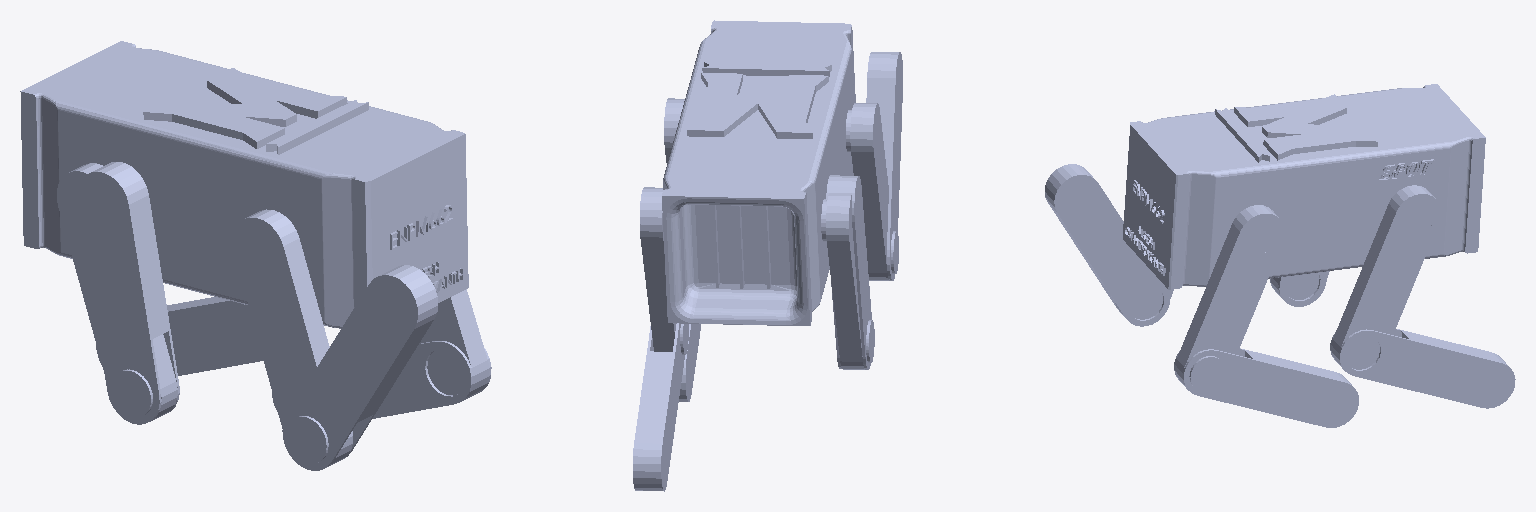
--- What the picture shows (computed from the rendered views, not written in the file) ---
3 views of the same robot in one strip: view 1: azimuth 30°, elevation 25°; view 2: azimuth 150°, elevation 25°; view 3: azimuth 270°, elevation 25° (orthographic).
Robot: spot — 18 links, 17 joints (4 revolute, 5 continuous, 8 fixed); root link dummy_link; default pose: every joint at zero.
Links seen in each view (by area): view 1: base_link, front_left_leg, rear_left_leg, rear_left_arm, front_right_leg, rear_right_leg, front_left_arm, rear_right_arm, rear_left_knee, front_left_knee, rear_left_shoulder, rear_right_knee; view 2: base_link, front_right_leg, rear_left_arm, front_left_arm, rear_left_leg, front_right_arm, front_left_leg, rear_right_leg, rear_right_arm; view 3: base_link, front_right_leg, rear_right_leg, rear_left_leg, front_right_arm, rear_right_arm, rear_right_knee, rear_right_shoulder, front_right_shoulder, rear_left_knee, front_right_knee, front_left_knee (+1 smaller).
Boxes of the visible links, left/top/right/bottom form: base_link: left=20, top=41, right=468, bottom=328; front_left_leg: left=77, top=162, right=179, bottom=424; rear_left_leg: left=282, top=265, right=437, bottom=470; rear_left_arm: left=232, top=209, right=352, bottom=466; front_right_leg: left=96, top=297, right=263, bottom=375; rear_right_leg: left=272, top=341, right=491, bottom=418; front_left_arm: left=57, top=163, right=177, bottom=419; rear_right_arm: left=419, top=289, right=489, bottom=399; rear_left_knee: left=287, top=416, right=328, bottom=463; front_left_knee: left=112, top=369, right=152, bottom=417; rear_left_shoulder: left=239, top=225, right=277, bottom=272; rear_right_knee: left=427, top=349, right=464, bottom=395; base_link: left=662, top=20, right=855, bottom=325; front_right_leg: left=633, top=323, right=684, bottom=491; rear_left_arm: left=850, top=103, right=888, bottom=280; front_left_arm: left=826, top=193, right=864, bottom=369; rear_left_leg: left=866, top=52, right=902, bottom=280; front_right_arm: left=640, top=187, right=676, bottom=351; front_left_leg: left=826, top=175, right=871, bottom=369; rear_right_leg: left=679, top=324, right=700, bottom=401; rear_right_arm: left=664, top=98, right=684, bottom=162; base_link: left=1123, top=84, right=1485, bottom=289; front_right_leg: left=1330, top=329, right=1515, bottom=408; rear_right_leg: left=1174, top=348, right=1358, bottom=427; rear_left_leg: left=1045, top=164, right=1169, bottom=326; front_right_arm: left=1331, top=185, right=1441, bottom=368; rear_right_arm: left=1175, top=205, right=1284, bottom=388; rear_right_knee: left=1189, top=356, right=1225, bottom=391; rear_right_shoulder: left=1244, top=219, right=1279, bottom=253; front_right_shoulder: left=1401, top=200, right=1435, bottom=233; rear_left_knee: left=1129, top=286, right=1162, bottom=319; front_right_knee: left=1346, top=336, right=1379, bottom=369; front_left_knee: left=1285, top=273, right=1318, bottom=299.
Size in the robot's own frame: 1.09 by 1.85 by 1.22 metres.
Meshes: 17 distinct files referenced, 17 mesh visuals loaded (17 binary STL).

The robot description file, URDF, robot "spot":
<?xml version="1.0" encoding="utf-8"?>
<!-- This URDF was automatically created by SolidWorks to URDF Exporter! Originally created by Stephen Brawner ([email redacted]) 
     Commit Version: 1.6.0-1-g15f4949  Build Version: 1.6.7594.29634
     For more information, please see http://wiki.ros.org/sw_urdf_exporter -->
<robot
  name="spot">
  <link
    name="base_link">
    <inertial>
      <origin
        xyz="0.19335804264155 1.09028613075507 -0.489907846784819"
        rpy="0 0 0" />
      <mass
        value="5.803427008103" />
      <inertia
        ixx="25.6580174851382"
        ixy="-0.306773797748636"
        ixz="-6.09071647336008"
        iyy="29.5593069732356"
        iyz="-0.886998425802061"
        izz="13.2903933999679" />
    </inertial>
    <visual>
      <origin
        xyz="0 0 0"
        rpy="0 0 0" />
      <geometry>
        <mesh
          filename="package://spot/meshes/base_link.STL" />
      </geometry>
      <material
        name="">
        <color
          rgba="0.792156862745098 0.819607843137255 0.933333333333333 1" />
      </material>
    </visual>
    <collision>
      <origin
        xyz="0 0 0"
        rpy="0 0 0" />
      <geometry>
        <mesh
          filename="package://spot/meshes/base_link.STL" />
      </geometry>
    </collision>
  </link>
  <link
    name="front_left_shoulder">
    <inertial>
      <origin
        xyz="0.0570964685913076 -3.21964677141295E-14 3.11972669919669E-14"
        rpy="0 0 0" />
      <mass
        value="30.53429173528852" />
      <inertia
        ixx="0.00994019550549898"
        ixy="1.9298798670242E-17"
        ixz="-5.88721779659629E-17"
        iyy="0.0167510702037112"
        iyz="2.16840434497101E-19"
        izz="0.0167510702037112" />
    </inertial>
    <visual>
      <origin
        xyz="0 0 0"
        rpy="0 0 0" />
      <geometry>
        <mesh
          filename="package://spot/meshes/front_left_shoulder.STL" />
      </geometry>
      <material
        name="">
        <color
          rgba="0.792156862745098 0.819607843137255 0.933333333333333 1" />
      </material>
    </visual>
    <collision>
      <origin
        xyz="0 0 0"
        rpy="0 0 0" />
      <geometry>
        <mesh
          filename="package://spot/meshes/front_left_shoulder.STL" />
      </geometry>
    </collision>
  </link>
  <joint
    name="front_left_shoulder_joint"
    type="revolute">
    <origin
      xyz="-0.25046 0.7027 1.0765"
      rpy="0.15518 0.035316 0.39339" />
    <parent
      link="base_link" />
    <child
      link="front_left_shoulder" />
    <axis
      xyz="1 0 0" />
    <limit
      lower="-3"
      upper="3"
      effort="1.5"
      velocity="3" />
    <dynamics damping="10" friction="0.1"/>
  </joint>
  <link
    name="front_left_arm">
    <inertial>
      <origin
        xyz="0.304961947601789 -0.0086821124155978 -0.00290353140869312"
        rpy="0 0 0" />
      <mass
        value="90.28584073464102" />
      <inertia
        ixx="0.0392595554967885"
        ixy="-1.23772520010945E-15"
        ixz="7.05598773853566E-16"
        iyy="0.33098522161448"
        iyz="-4.85722573273506E-17"
        izz="0.360339880327651" />
    </inertial>
    <visual>
      <origin
        xyz="0 0 0"
        rpy="0 0 0" />
      <geometry>
        <mesh
          filename="package://spot/meshes/front_left_arm.STL" />
      </geometry>
      <material
        name="">
        <color
          rgba="0.792156862745098 0.819607843137255 0.933333333333333 1" />
      </material>
    </visual>
    <collision>
      <origin
        xyz="0 0 0"
        rpy="0 0 0" />
      <geometry>
        <mesh
          filename="package://spot/meshes/front_left_arm.STL" />
      </geometry>
    </collision>
  </link>
  <joint
    name="front_left_arm_joint"
    type="fixed">
    <origin
      xyz="0 0.01 0"
      rpy="-1.57079632679488 1.05158591852191 -1.57079632679488" />
    <parent
      link="front_left_shoulder" />
    <child
      link="front_left_arm" />
    <axis
      xyz="0 0 0" />
    <dynamics damping="10" friction="0.1"/>
  </joint>
  <link
    name="front_left_knee">
    <inertial>
      <origin
        xyz="-0.0129035314086925 -1.11022302462516E-16 5.55111512312578E-17"
        rpy="0 0 0" />
      <mass
        value="10.76714586764426" />
      <inertia
        ixx="0.00497009775274948"
        ixy="-2.81892564846231E-18"
        ixz="-9.48676900924816E-19"
        iyy="0.00395767043274496"
        iyz="5.42101086242752E-20"
        izz="0.00395767043274496" />
    </inertial>
    <visual>
      <origin
        xyz="0 0 0"
        rpy="0 0 0" />
      <geometry>
        <mesh
          filename="package://spot/meshes/front_left_knee.STL" />
      </geometry>
      <material
        name="">
        <color
          rgba="0.792156862745098 0.819607843137255 0.933333333333333 1" />
      </material>
    </visual>
    <collision>
      <origin
        xyz="0 0 0"
        rpy="0 0 0" />
      <geometry>
        <mesh
          filename="package://spot/meshes/front_left_knee.STL" />
      </geometry>
    </collision>
  </link>
  <joint
    name="front_left_knee_joint"
    type="revolute">
    <origin
      xyz="0.60496 -0.0086821 0"
      rpy="2.4751 -1.5708 0" />
    <parent
      link="front_left_arm" />
    <child
      link="front_left_knee" />
    <axis
      xyz="1 0 0" />
    <limit
      lower="-3"
      upper="3"
      effort="1.5"
      velocity="3" />
    <dynamics damping="10" friction="0.1"/>
  </joint>
  <link
    name="front_left_leg">
    <inertial>
      <origin
        xyz="0.403673940518981 -0.00689228859860869 -0.00290353140869268"
        rpy="0 0 0" />
      <mass
        value="10.4703696906554" />
      <inertia
        ixx="0.0439849528203729"
        ixy="3.963843142607E-16"
        ixz="1.33573707650214E-16"
        iyy="0.29378731962821"
        iyz="-4.85722573273506E-17"
        izz="0.318579210040317" />
    </inertial>
    <visual>
      <origin
        xyz="0 0 0"
        rpy="0 0 0" />
      <geometry>
        <mesh
          filename="package://spot/meshes/front_left_leg.STL" />
      </geometry>
      <material
        name="">
        <color
          rgba="0.792156862745098 0.819607843137255 0.933333333333333 1" />
      </material>
    </visual>
    <collision>
      <origin
        xyz="0 0 0"
        rpy="0 0 0" />
      <geometry>
        <mesh
          filename="package://spot/meshes/front_left_leg.STL" />
      </geometry>
    </collision>
  </link>
  <joint
    name="front_left_leg_joint"
    type="fixed">
    <origin
      xyz="0 0.0099999999999999 0"
      rpy="1.5707963267949 0.760424201805189 1.57079632679489" />
    <parent
      link="front_left_knee" />
    <child
      link="front_left_leg" />
    <axis
      xyz="0 0 0" />
    <dynamics damping="10" friction="0.1"/>
  </joint>
  <link
    name="rear_left_shoulder">
    <inertial>
      <origin
        xyz="0.0570964685913075 -1.33226762955019E-15 -1.15324416682938E-14"
        rpy="0 0 0" />
      <mass
        value="30.53429173528852" />
      <inertia
        ixx="0.00994019550549896"
        ixy="1.24683249835833E-18"
        ixz="-2.81892564846231E-18"
        iyy="0.0167510702037112"
        iyz="5.42101086242752E-20"
        izz="0.0167510702037112" />
    </inertial>
    <visual>
      <origin
        xyz="0 0 0"
        rpy="0 0 0" />
      <geometry>
        <mesh
          filename="package://spot/meshes/rear_left_shoulder.STL" />
      </geometry>
      <material
        name="">
        <color
          rgba="0.792156862745098 0.819607843137255 0.933333333333333 1" />
      </material>
    </visual>
    <collision>
      <origin
        xyz="0 0 0"
        rpy="0 0 0" />
      <geometry>
        <mesh
          filename="package://spot/meshes/rear_left_shoulder.STL" />
      </geometry>
    </collision>
  </link>
  <joint
    name="rear_left_shoulder_joint"
    type="fixed">
    <origin
      xyz="0.0051172 0.09004 1.1107"
      rpy="-1.5852 0.035316 0.39339" />
    <parent
      link="base_link" />
    <child
      link="rear_left_shoulder" />
    <axis
      xyz="1 0 0" />
    <limit
      lower="-3"
      upper="3"
      effort="1.5"
      velocity="3" />
    <dynamics damping="10" friction="0.1"/>
  </joint>
  <link
    name="rear_left_arm">
    <inertial>
      <origin
        xyz="0.290604864747068 -0.00342511803862211 -0.0029035314086929"
        rpy="0 0 0" />
      <mass
        value="90.28584073464103" />
      <inertia
        ixx="0.0392595554967885"
        ixy="-8.50691045384266E-14"
        ixz="6.72205346941013E-17"
        iyy="0.33098522161448"
        iyz="-6.93889390390723E-18"
        izz="0.360339880327652" />
    </inertial>
    <visual>
      <origin
        xyz="0 0 0"
        rpy="0 0 0" />
      <geometry>
        <mesh
          filename="package://spot/meshes/rear_left_arm.STL" />
      </geometry>
      <material
        name="">
        <color
          rgba="0.792156862745098 0.819607843137255 0.933333333333333 1" />
      </material>
    </visual>
    <collision>
      <origin
        xyz="0 0 0"
        rpy="0 0 0" />
      <geometry>
        <mesh
          filename="package://spot/meshes/rear_left_arm.STL" />
      </geometry>
    </collision>
  </link>
  <joint
    name="rear_left_arm_joint"
    type="continuous">
    <origin
      xyz="0 0.00999999999999979 0"
      rpy="1.5707963267949 0.349589114476772 1.5707963267949" />
    <parent
      link="rear_left_shoulder" />
    <child
      link="rear_left_arm" />
    <axis
      xyz="0 0 1" />
    <dynamics damping="10" friction="0.1"/>
  </joint>
  <link
    name="rear_left_knee">
    <inertial>
      <origin
        xyz="-0.0129035314086929 -7.79931674799172E-15 -2.33146835171283E-15"
        rpy="0 0 0" />
      <mass
        value="10.76714586764426" />
      <inertia
        ixx="0.00497009775274948"
        ixy="-6.50521303491303E-19"
        ixz="-2.31748214368777E-18"
        iyy="0.00395767043274496"
        iyz="0"
        izz="0.00395767043274496" />
    </inertial>
    <visual>
      <origin
        xyz="0 0 0"
        rpy="0 0 0" />
      <geometry>
        <mesh
          filename="package://spot/meshes/rear_left_knee.STL" />
      </geometry>
      <material
        name="">
        <color
          rgba="0.792156862745098 0.819607843137255 0.933333333333333 1" />
      </material>
    </visual>
    <collision>
      <origin
        xyz="0 0 0"
        rpy="0 0 0" />
      <geometry>
        <mesh
          filename="package://spot/meshes/rear_left_knee.STL" />
      </geometry>
    </collision>
  </link>
  <joint
    name="rear_left_knee_joint"
    type="fixed">
    <origin
      xyz="0.5906 -0.0034251 0"
      rpy="2.8471 -1.5708 0" />
    <parent
      link="rear_left_arm" />
    <child
      link="rear_left_knee" />
    <axis
      xyz="1 0 0" />
    <limit
      lower="-3"
      upper="3"
      effort="1.5"
      velocity="3" />
    <dynamics damping="10" friction="0.1"/>
  </joint>
  <link
    name="rear_left_leg">
    <inertial>
      <origin
        xyz="0.401664249497134 -0.00378716313216521 -0.00290353140869293"
        rpy="0 0 0" />
      <mass
        value="10.4703696906554" />
      <inertia
        ixx="0.043984952820373"
        ixy="-2.89972039435593E-13"
        ixz="2.60208521396521E-17"
        iyy="0.29378731962821"
        iyz="6.93889390390723E-18"
        izz="0.318579210040316" />
    </inertial>
    <visual>
      <origin
        xyz="0 0 0"
        rpy="0 0 0" />
      <geometry>
        <mesh
          filename="package://spot/meshes/rear_left_leg.STL" />
      </geometry>
      <material
        name="">
        <color
          rgba="0.792156862745098 0.819607843137255 0.933333333333333 1" />
      </material>
    </visual>
    <collision>
      <origin
        xyz="0 0 0"
        rpy="0 0 0" />
      <geometry>
        <mesh
          filename="package://spot/meshes/rear_left_leg.STL" />
      </geometry>
    </collision>
  </link>
  <joint
    name="rear_left_leg_joint"
    type="continuous">
    <origin
      xyz="0 0.01 0"
      rpy="1.5707963267949 0.388408901693264 1.5707963267949" />
    <parent
      link="rear_left_knee" />
    <child
      link="rear_left_leg" />
    <axis
      xyz="0 0 1" />
    <dynamics damping="10" friction="0.1"/>
  </joint>
  <link
    name="front_right_shoulder">
    <inertial>
      <origin
        xyz="0.0664137960412473 -1.11022302462516E-16 -8.88178419700125E-16"
        rpy="0 0 0" />
      <mass
        value="30.53429173528852" />
      <inertia
        ixx="0.00994019550549896"
        ixy="1.51788304147971E-18"
        ixz="6.23145198636044E-17"
        iyy="0.0167510702037112"
        iyz="3.25260651745651E-19"
        izz="0.0167510702037112" />
    </inertial>
    <visual>
      <origin
        xyz="0 0 0"
        rpy="0 0 0" />
      <geometry>
        <mesh
          filename="package://spot/meshes/front_right_shoulder.STL" />
      </geometry>
      <material
        name="">
        <color
          rgba="0.792156862745098 0.819607843137255 0.933333333333333 1" />
      </material>
    </visual>
    <collision>
      <origin
        xyz="0 0 0"
        rpy="0 0 0" />
      <geometry>
        <mesh
          filename="package://spot/meshes/front_right_shoulder.STL" />
      </geometry>
    </collision>
  </link>
  <joint
    name="front_right_shoulder_joint"
    type="revolute">
    <origin
      xyz="0.23397 0.90375 1.058"
      rpy="3.0811 0.035316 0.39339" />
    <parent
      link="base_link" />
    <child
      link="front_right_shoulder" />
    <axis
      xyz="1 0 0" />
    <limit
      lower="-3"
      upper="3"
      effort="1.5"
      velocity="3" />
    <dynamics damping="10" friction="0.1"/>
  </joint>
  <link
    name="front_right_arm">
    <inertial>
      <origin
        xyz="0.3 2.33146835171283E-15 4.44089209850063E-16"
        rpy="0 0 0" />
      <mass
        value="90.28584073464102" />
      <inertia
        ixx="0.0392595554967886"
        ixy="-2.07299455379228E-15"
        ixz="-3.57353036051222E-16"
        iyy="0.33098522161448"
        iyz="-4.85722573273506E-17"
        izz="0.360339880327652" />
    </inertial>
    <visual>
      <origin
        xyz="0 0 0"
        rpy="0 0 0" />
      <geometry>
        <mesh
          filename="package://spot/meshes/front_right_arm.STL" />
      </geometry>
      <material
        name="">
        <color
          rgba="0.792156862745098 0.819607843137255 0.933333333333333 1" />
      </material>
    </visual>
    <collision>
      <origin
        xyz="0 0 0"
        rpy="0 0 0" />
      <geometry>
        <mesh
          filename="package://spot/meshes/front_right_arm.STL" />
      </geometry>
    </collision>
  </link>
  <joint
    name="front_right_arm_joint"
    type="fixed">
    <origin
      xyz="0.126413796041247 0 0"
      rpy="-1.57079632679487 -1.24064228345131 1.57079632679487" />
    <parent
      link="front_right_shoulder" />
    <child
      link="front_right_arm" />
    <axis
      xyz="0 0 0" />
    <dynamics damping="10" friction="0.1"/>
  </joint>
  <link
    name="front_right_knee">
    <inertial>
      <origin
        xyz="-0.01 0 1.11022302462516E-16"
        rpy="0 0 0" />
      <mass
        value="10.76714586764426" />
      <inertia
        ixx="0.00497009775274948"
        ixy="-1.0842021724855E-18"
        ixz="-4.01154803819637E-18"
        iyy="0.00395767043274496"
        iyz="-1.0842021724855E-19"
        izz="0.00395767043274496" />
    </inertial>
    <visual>
      <origin
        xyz="0 0 0"
        rpy="0 0 0" />
      <geometry>
        <mesh
          filename="package://spot/meshes/front_right_knee.STL" />
      </geometry>
      <material
        name="">
        <color
          rgba="0.792156862745098 0.819607843137255 0.933333333333333 1" />
      </material>
    </visual>
    <collision>
      <origin
        xyz="0 0 0"
        rpy="0 0 0" />
      <geometry>
        <mesh
          filename="package://spot/meshes/front_right_knee.STL" />
      </geometry>
    </collision>
  </link>
  <joint
    name="front_right_knee_joint"
    type="revolute">
    <origin
      xyz="0.6 0 0"
      rpy="0.016482 1.5708 1.6092" />
    <parent
      link="front_right_arm" />
    <child
      link="front_right_knee" />
    <axis
      xyz="1 0 0" />
    <limit
      lower="-3"
      upper="3"
      effort="1.5"
      velocity="3" />
    <dynamics damping="10" friction="0.1" />
  </joint>
  <link
    name="front_right_leg">
    <inertial>
      <origin
        xyz="0.410912645299226 0.00999999773383875 1.11022302462516E-16"
        rpy="0 0 0" />
      <mass
        value="10.4703696906554" />
      <inertia
        ixx="0.0439849528203729"
        ixy="-2.30718222304915E-15"
        ixz="-6.67868538251071E-17"
        iyy="0.293787319628209"
        iyz="-3.46944695195361E-18"
        izz="0.318579210040316" />
    </inertial>
    <visual>
      <origin
        xyz="0 0 0"
        rpy="0 0 0" />
      <geometry>
        <mesh
          filename="package://spot/meshes/front_right_leg.STL" />
      </geometry>
      <material
        name="">
        <color
          rgba="0.792156862745098 0.819607843137255 0.933333333333333 1" />
      </material>
    </visual>
    <collision>
      <origin
        xyz="0 0 0"
        rpy="0 0 0" />
      <geometry>
        <mesh
          filename="package://spot/meshes/front_right_leg.STL" />
      </geometry>
    </collision>
  </link>
  <joint
    name="front_right_leg_joint"
    type="continuous">
    <origin
      xyz="0 0.01 0"
      rpy="-1.5708 1.5701 1.5708" />
    <parent
      link="front_right_knee" />
    <child
      link="front_right_leg" />
    <axis
      xyz="0 0 0" />
    <dynamics damping="10" friction="0.1"/>
  </joint>
  <link
    name="rear_right_shoulder">
    <inertial>
      <origin
        xyz="0.0677338767757805 -6.77236045021345E-15 -9.10382880192628E-15"
        rpy="0 0 0" />
      <mass
        value="30.53429173528852" />
      <inertia
        ixx="0.00994019550549896"
        ixy="1.29020058525775E-17"
        ixz="-2.51534904016637E-17"
        iyy="0.0167510702037112"
        iyz="-1.73472347597681E-18"
        izz="0.0167510702037112" />
    </inertial>
    <visual>
      <origin
        xyz="0 0 0"
        rpy="0 0 0" />
      <geometry>
        <mesh
          filename="package://spot/meshes/rear_right_shoulder.STL" />
      </geometry>
      <material
        name="">
        <color
          rgba="0.792156862745098 0.819607843137255 0.933333333333333 1" />
      </material>
    </visual>
    <collision>
      <origin
        xyz="0 0 0"
        rpy="0 0 0" />
      <geometry>
        <mesh
          filename="package://spot/meshes/rear_right_shoulder.STL" />
      </geometry>
    </collision>
  </link>
  <joint
    name="rear_right_shoulder_joint"
    type="fixed">
    <origin
      xyz="0.48833 0.29059 1.0922"
      rpy="-1.043 0.035316 0.39339" />
    <parent
      link="base_link" />
    <child
      link="rear_right_shoulder" />
    <axis
      xyz="1 0 0" />
    <limit
      lower="-3"
      upper="3"
      effort="1.5"
      velocity="3" />
    <dynamics damping="10" friction="0.1"/>
  </joint>
  <link
    name="rear_right_arm">
    <inertial>
      <origin
        xyz="0.299999999999992 -2.40363284831346E-14 -0.00205767353950237"
        rpy="0 0 0" />
      <mass
        value="90.28584073464101" />
      <inertia
        ixx="0.0392595554967885"
        ixy="-2.79550688153662E-15"
        ixz="1.25463875400023E-15"
        iyy="0.33098522161448"
        iyz="4.85722573273506E-17"
        izz="0.360339880327652" />
    </inertial>
    <visual>
      <origin
        xyz="0 0 0"
        rpy="0 0 0" />
      <geometry>
        <mesh
          filename="package://spot/meshes/rear_right_arm.STL" />
      </geometry>
      <material
        name="">
        <color
          rgba="0.792156862745098 0.819607843137255 0.933333333333333 1" />
      </material>
    </visual>
    <collision>
      <origin
        xyz="0 0 0"
        rpy="0 0 0" />
      <geometry>
        <mesh
          filename="package://spot/meshes/rear_right_arm.STL" />
      </geometry>
    </collision>
  </link>
  <joint
    name="rear_right_arm_joint"
    type="continuous">
    <origin
      xyz="0.125676203236276 0 0"
      rpy="-1.5707963267949 0.918489749936598 1.5707963267949" />
    <parent
      link="rear_right_shoulder" />
    <child
      link="rear_right_arm" />
    <axis
      xyz="0 0 1" />
    <dynamics damping="10" friction="0.1"/>
  </joint>
  <link
    name="rear_right_knee">
    <inertial>
      <origin
        xyz="0.0120576735395013 0 -5.55111512312578E-17"
        rpy="0 0 0" />
      <mass
        value="10.76714586764426" />
      <inertia
        ixx="0.00497009775274948"
        ixy="1.30104260698261E-18"
        ixz="-7.58941520739853E-19"
        iyy="0.00395767043274495"
        iyz="5.42101086242752E-19"
        izz="0.00395767043274495" />
    </inertial>
    <visual>
      <origin
        xyz="0 0 0"
        rpy="0 0 0" />
      <geometry>
        <mesh
          filename="package://spot/meshes/rear_right_knee.STL" />
      </geometry>
      <material
        name="">
        <color
          rgba="0.792156862745098 0.819607843137255 0.933333333333333 1" />
      </material>
    </visual>
    <collision>
      <origin
        xyz="0 0 0"
        rpy="0 0 0" />
      <geometry>
        <mesh
          filename="package://spot/meshes/rear_right_knee.STL" />
      </geometry>
    </collision>
  </link>
  <joint
    name="rear_right_knee_joint"
    type="fixed">
    <origin
      xyz="0.6 0 0"
      rpy="2.4536 1.5708 0" />
    <parent
      link="rear_right_arm" />
    <child
      link="rear_right_knee" />
    <axis
      xyz="1 0 0" />
    <limit
      lower="-3"
      upper="3"
      effort="1.5"
      velocity="3" />
    <dynamics damping="10" friction="0.1"/>
  </joint>
  <link
    name="rear_right_leg">
    <inertial>
      <origin
        xyz="0.403066666092815 0.00619152022192465 0.00205767353950193"
        rpy="0 0 0" />
      <mass
        value="10.4703696906554" />
      <inertia
        ixx="0.0439849528203728"
        ixy="9.01188845769951E-16"
        ixz="-5.5944832100252E-16"
        iyy="0.293787319628209"
        iyz="3.12250225675825E-17"
        izz="0.318579210040316" />
    </inertial>
    <visual>
      <origin
        xyz="0 0 0"
        rpy="0 0 0" />
      <geometry>
        <mesh
          filename="package://spot/meshes/rear_right_leg.STL" />
      </geometry>
      <material
        name="">
        <color
          rgba="0.792156862745098 0.819607843137255 0.933333333333333 1" />
      </material>
    </visual>
    <collision>
      <origin
        xyz="0 0 0"
        rpy="0 0 0" />
      <geometry>
        <mesh
          filename="package://spot/meshes/rear_right_leg.STL" />
      </geometry>
    </collision>
  </link>
  <joint
    name="rear_right_leg_joint"
    type="continuous">
    <origin
      xyz="0 0.0099999999999999 0"
      rpy="1.5707963267949 -0.667662389382688 1.5707963267949" />
    <parent
      link="rear_right_knee" />
    <child
      link="rear_right_leg" />
    <axis
      xyz="0 0 1" />
    <dynamics damping="10" friction="0.1"/>
  </joint>
    <!--Adding Dummy Link-->
  <link
    name="dummy_link">
  </link>
  <joint
    name="dummy_joint"
    type="fixed">
    <parent
      link="dummy_link" />
    <child
      link="base_link" />
    <dynamics damping="10" friction="0.1"/>
  </joint>
  <!--Adding Colors-->
  <gazebo reference="base_link">
    <material>Gazebo/Yellow</material>
  </gazebo>
  <gazebo reference="front_left_shoulder">
    <material>Gazebo/Black</material>
  </gazebo>
  <gazebo reference="front_right_shoulder">
    <material>Gazebo/Black</material>
  </gazebo>
  <gazebo reference="rear_left_shoulder">
    <material>Gazebo/Black</material>
  </gazebo>
  <gazebo reference="rear_right_shoulder">
    <material>Gazebo/Black</material>
  </gazebo>
    <gazebo reference="front_left_arm">
    <material>Gazebo/Yellow</material>
  </gazebo>
  <gazebo reference="front_right_arm">
    <material>Gazebo/Yellow</material>
  </gazebo>
  <gazebo reference="rear_left_arm">
    <material>Gazebo/Yellow</material>
  </gazebo>
  <gazebo reference="rear_right_arm">
    <material>Gazebo/Yellow</material>
  </gazebo>
  <gazebo reference="front_left_knee">
    <material>Gazebo/Black</material>
  </gazebo>
  <gazebo reference="front_right_knee">
    <material>Gazebo/Black</material>
  </gazebo>
  <gazebo reference="rear_left_knee">
    <material>Gazebo/Black</material>
  </gazebo>
  <gazebo reference="rear_right_knee">
    <material>Gazebo/Black</material>
  </gazebo>
    <gazebo reference="front_left_leg">
    <material>Gazebo/Yellow</material>
  </gazebo>
  <gazebo reference="front_right_leg">
    <material>Gazebo/Yellow</material>
  </gazebo>
  <gazebo reference="rear_left_leg">
    <material>Gazebo/Yellow</material>
  </gazebo>
  <gazebo reference="rear_right_leg">
    <material>Gazebo/Yellow</material>
  </gazebo>
  <!--Adding Transmissions-->
  <transmission name="transmission_front_left_shoulder_joint">
    <type>transmission_interface/SimpleTransmission</type>
    <joint name="front_left_shoulder_joint">
      <hardwareInterface>hardware_interface/VelocityJointInterface</hardwareInterface>
      <dynamics damping="10" friction="0.1"/>
  </joint>
    <actuator name="front_left_shoulder_joint_motor">
      <mechanicalReduction>1</mechanicalReduction>
      <hardwareInterface>hardware_interface/VelocityJointInterface</hardwareInterface>
    </actuator>
  </transmission>
  <transmission name="transmission_front_right_shoulder_joint">
    <type>transmission_interface/SimpleTransmission</type>
    <joint name="front_right_shoulder_joint">
      <hardwareInterface>hardware_interface/VelocityJointInterface</hardwareInterface>
      <dynamics damping="10" friction="0.1"/>
  </joint>
    <actuator name="front_right_shoulder_joint_motor">
      <mechanicalReduction>1</mechanicalReduction>
      <hardwareInterface>hardware_interface/VelocityJointInterface</hardwareInterface>
    </actuator>
  </transmission>
  <transmission name="transmission_rear_left_shoulder_joint">
    <type>transmission_interface/SimpleTransmission</type>
    <joint name="rear_left_shoulder_joint">
      <hardwareInterface>hardware_interface/VelocityJointInterface</hardwareInterface>
      <dynamics damping="10" friction="0.1"/>
  </joint>
    <actuator name="rear_left_shoulder_joint_motor">
      <mechanicalReduction>1</mechanicalReduction>
      <hardwareInterface>hardware_interface/VelocityJointInterface</hardwareInterface>
    </actuator>
  </transmission>
  <transmission name="transmission_rear_right_shoulder_joint">
    <type>transmission_interface/SimpleTransmission</type>
    <joint name="rear_right_shoulder_joint">
      <hardwareInterface>hardware_interface/VelocityJointInterface</hardwareInterface>
      <dynamics damping="10" friction="0.1"/>
  </joint>
    <actuator name="rear_right_shoulder_joint_motor">
      <mechanicalReduction>1</mechanicalReduction>
      <hardwareInterface>hardware_interface/VelocityJointInterface</hardwareInterface>
    </actuator>
  </transmission>
  <transmission name="transmission_front_left_arm_joint">
    <type>transmission_interface/SimpleTransmission</type>
    <joint name="front_left_arm_joint">
      <hardwareInterface>hardware_interface/VelocityJointInterface</hardwareInterface>
      <dynamics damping="10" friction="0.1"/>
  </joint>
    <actuator name="front_left_arm_joint_motor">
      <mechanicalReduction>1</mechanicalReduction>
      <hardwareInterface>hardware_interface/VelocityJointInterface</hardwareInterface>
    </actuator>
  </transmission>
  <transmission name="transmission_front_right_arm_joint">
    <type>transmission_interface/SimpleTransmission</type>
    <joint name="front_right_arm_joint">
      <hardwareInterface>hardware_interface/VelocityJointInterface</hardwareInterface>
      <dynamics damping="10" friction="0.1"/>
  </joint>
    <actuator name="front_right_arm_joint_motor">
      <mechanicalReduction>1</mechanicalReduction>
      <hardwareInterface>hardware_interface/VelocityJointInterface</hardwareInterface>
    </actuator>
  </transmission>
  <transmission name="transmission_rear_left_arm_joint">
    <type>transmission_interface/SimpleTransmission</type>
    <joint name="rear_left_arm_joint">
      <hardwareInterface>hardware_interface/VelocityJointInterface</hardwareInterface>
      <dynamics damping="10" friction="0.1"/>
  </joint>
    <actuator name="rear_left_arm_joint_motor">
      <mechanicalReduction>1</mechanicalReduction>
      <hardwareInterface>hardware_interface/VelocityJointInterface</hardwareInterface>
    </actuator>
  </transmission>
  <transmission name="transmission_rear_right_arm_joint">
    <type>transmission_interface/SimpleTransmission</type>
    <joint name="rear_right_arm_joint">
      <hardwareInterface>hardware_interface/VelocityJointInterface</hardwareInterface>
      <dynamics damping="10" friction="0.1"/>
  </joint>
    <actuator name="rear_right_arm_joint_motor">
      <mechanicalReduction>1</mechanicalReduction>
      <hardwareInterface>hardware_interface/VelocityJointInterface</hardwareInterface>
    </actuator>
  </transmission>
  <transmission name="transmission_front_left_knee_joint">
    <type>transmission_interface/SimpleTransmission</type>
    <joint name="front_left_knee_joint">
      <hardwareInterface>hardware_interface/VelocityJointInterface</hardwareInterface>
      <dynamics damping="10" friction="0.1"/>
  </joint>
    <actuator name="front_left_knee_joint_motor">
      <mechanicalReduction>1</mechanicalReduction>
      <hardwareInterface>hardware_interface/VelocityJointInterface</hardwareInterface>
    </actuator>
  </transmission>
  <transmission name="transmission_front_right_knee_joint">
    <type>transmission_interface/SimpleTransmission</type>
    <joint name="front_right_knee_joint">
      <hardwareInterface>hardware_interface/VelocityJointInterface</hardwareInterface>
      <dynamics damping="10" friction="0.1"/>
  </joint>
    <actuator name="front_right_knee_joint_motor">
      <mechanicalReduction>1</mechanicalReduction>
      <hardwareInterface>hardware_interface/VelocityJointInterface</hardwareInterface>
    </actuator>
  </transmission>
  <transmission name="transmission_rear_left_knee_joint">
    <type>transmission_interface/SimpleTransmission</type>
    <joint name="rear_left_knee_joint">
      <hardwareInterface>hardware_interface/VelocityJointInterface</hardwareInterface>
      <dynamics damping="10" friction="0.1"/>
  </joint>
    <actuator name="rear_left_knee_joint_motor">
      <mechanicalReduction>1</mechanicalReduction>
      <hardwareInterface>hardware_interface/VelocityJointInterface</hardwareInterface>
    </actuator>
  </transmission>
  <transmission name="transmission_rear_right_knee_joint">
    <type>transmission_interface/SimpleTransmission</type>
    <joint name="rear_right_knee_joint">
      <hardwareInterface>hardware_interface/VelocityJointInterface</hardwareInterface>
      <dynamics damping="10" friction="0.1"/>
  </joint>
    <actuator name="rear_right_knee_joint_motor">
      <mechanicalReduction>1</mechanicalReduction>
      <hardwareInterface>hardware_interface/VelocityJointInterface</hardwareInterface>
    </actuator>
  </transmission>
  <transmission name="transmission_front_left_leg_joint">
    <type>transmission_interface/SimpleTransmission</type>
    <joint name="front_left_leg_joint">
      <hardwareInterface>hardware_interface/VelocityJointInterface</hardwareInterface>
      <dynamics damping="10" friction="0.1"/>
  </joint>
    <actuator name="front_left_leg_joint_motor">
      <mechanicalReduction>1</mechanicalReduction>
      <hardwareInterface>hardware_interface/VelocityJointInterface</hardwareInterface>
    </actuator>
  </transmission>
  <transmission name="transmission_front_right_leg_joint">
    <type>transmission_interface/SimpleTransmission</type>
    <joint name="front_right_leg_joint">
      <hardwareInterface>hardware_interface/VelocityJointInterface</hardwareInterface>
      <dynamics damping="10" friction="0.1"/>
  </joint>
    <actuator name="front_right_leg_joint_motor">
      <mechanicalReduction>1</mechanicalReduction>
      <hardwareInterface>hardware_interface/VelocityJointInterface</hardwareInterface>
    </actuator>
  </transmission>
  <transmission name="transmission_rear_left_leg_joint">
    <type>transmission_interface/SimpleTransmission</type>
    <joint name="rear_left_leg_joint">
      <hardwareInterface>hardware_interface/VelocityJointInterface</hardwareInterface>
      <dynamics damping="10" friction="0.1"/>
  </joint>
    <actuator name="rear_left_leg_joint_motor">
      <mechanicalReduction>1</mechanicalReduction>
      <hardwareInterface>hardware_interface/VelocityJointInterface</hardwareInterface>
    </actuator>
  </transmission>
  <transmission name="transmission_rear_right_leg_joint">
    <type>transmission_interface/SimpleTransmission</type>
    <joint name="rear_right_leg_joint">
      <hardwareInterface>hardware_interface/VelocityJointInterface</hardwareInterface>
      <dynamics damping="10" friction="0.1"/>
  </joint>
    <actuator name="rear_right_leg_joint_motor">
      <mechanicalReduction>1</mechanicalReduction>
      <hardwareInterface>hardware_interface/VelocityJointInterface</hardwareInterface>
    </actuator>
  </transmission>
  <gazebo reference="base_link">
    <kp>1000000.0</kp>
    <kd>1.0</kd>
    <mu1>0.8</mu1>
    <mu2>0.8</mu2>
    <maxVel>0.0</maxVel>
    <minDepth>0.001</minDepth>
  </gazebo>
</robot>
